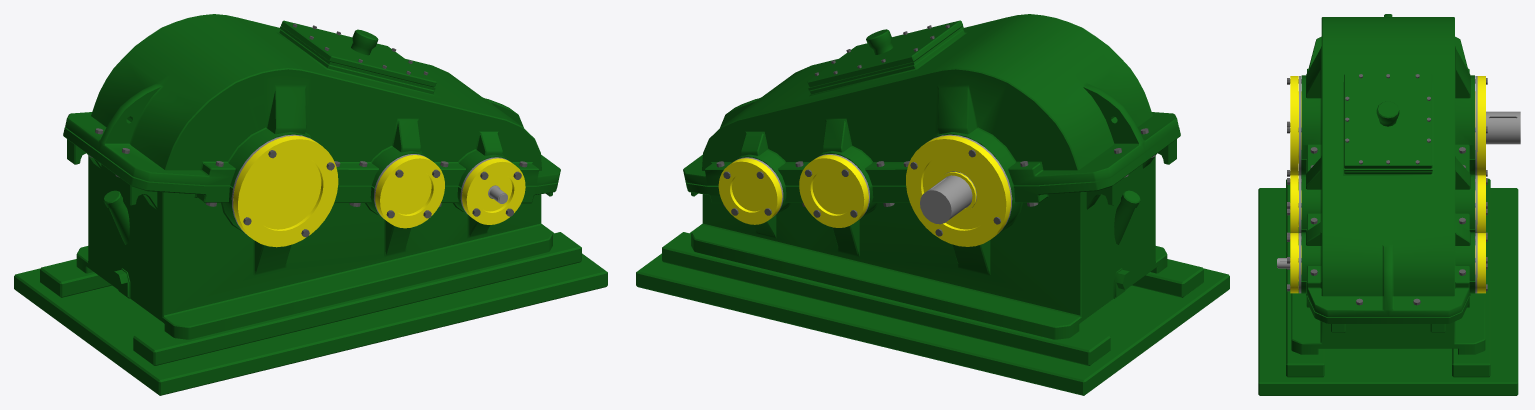
The model's file is 变速箱.FBX.
3 renders of one model, left to right at view 1: azimuth 30°, elevation 25°; view 2: azimuth 150°, elevation 25°; view 3: azimuth 270°, elevation 25°, orthographic. The views are drawn at different scales.
Parts seen in each view (by area): view 1: 003-外壳上, 外壳下, 底座, 005-左盖, 001顶盖, 004-左侧螺栓, 左垫片; view 2: 003-外壳上, 外壳下, 底座, 007-右盖, 001顶盖, 012-大齿轮, 右垫片, 006-右螺丝; view 3: 003-外壳上, 底座, 001顶盖, 外壳下, 007-右盖, 005-左盖, 012-大齿轮, 右垫片, 左垫片, 002-外壳螺丝, 004-左侧螺栓.
Part boxes in pixels (left/top/right/bottom): 003-外壳上: left=65, top=14, right=560, bottom=187; 外壳下: left=63, top=127, right=558, bottom=339; 底座: left=14, top=224, right=607, bottom=395; 005-左盖: left=233, top=135, right=525, bottom=247; 001顶盖: left=280, top=20, right=436, bottom=90; 004-左侧螺栓: left=243, top=150, right=521, bottom=237; 左垫片: left=231, top=134, right=509, bottom=235; 003-外壳上: left=683, top=14, right=1178, bottom=187; 外壳下: left=685, top=127, right=1180, bottom=339; 底座: left=636, top=224, right=1229, bottom=395; 007-右盖: left=718, top=135, right=1010, bottom=246; 001顶盖: left=807, top=20, right=963, bottom=90; 012-大齿轮: left=920, top=171, right=976, bottom=224; 右垫片: left=734, top=134, right=1012, bottom=235; 006-右螺丝: left=723, top=149, right=1000, bottom=236; 003-外壳上: left=1301, top=14, right=1474, bottom=317; 底座: left=1258, top=178, right=1518, bottom=395; 001顶盖: left=1344, top=74, right=1432, bottom=171; 外壳下: left=1291, top=150, right=1485, bottom=354; 007-右盖: left=1475, top=76, right=1485, bottom=293; 005-左盖: left=1290, top=76, right=1301, bottom=293; 012-大齿轮: left=1486, top=111, right=1520, bottom=144; 右垫片: left=1475, top=76, right=1477, bottom=293; 左垫片: left=1299, top=76, right=1301, bottom=293; 002-外壳螺丝: left=1310, top=147, right=1465, bottom=305; 004-左侧螺栓: left=1287, top=78, right=1301, bottom=291.
Bounding box in the file's own units: 80.89 × 45.53 × 45.98.
